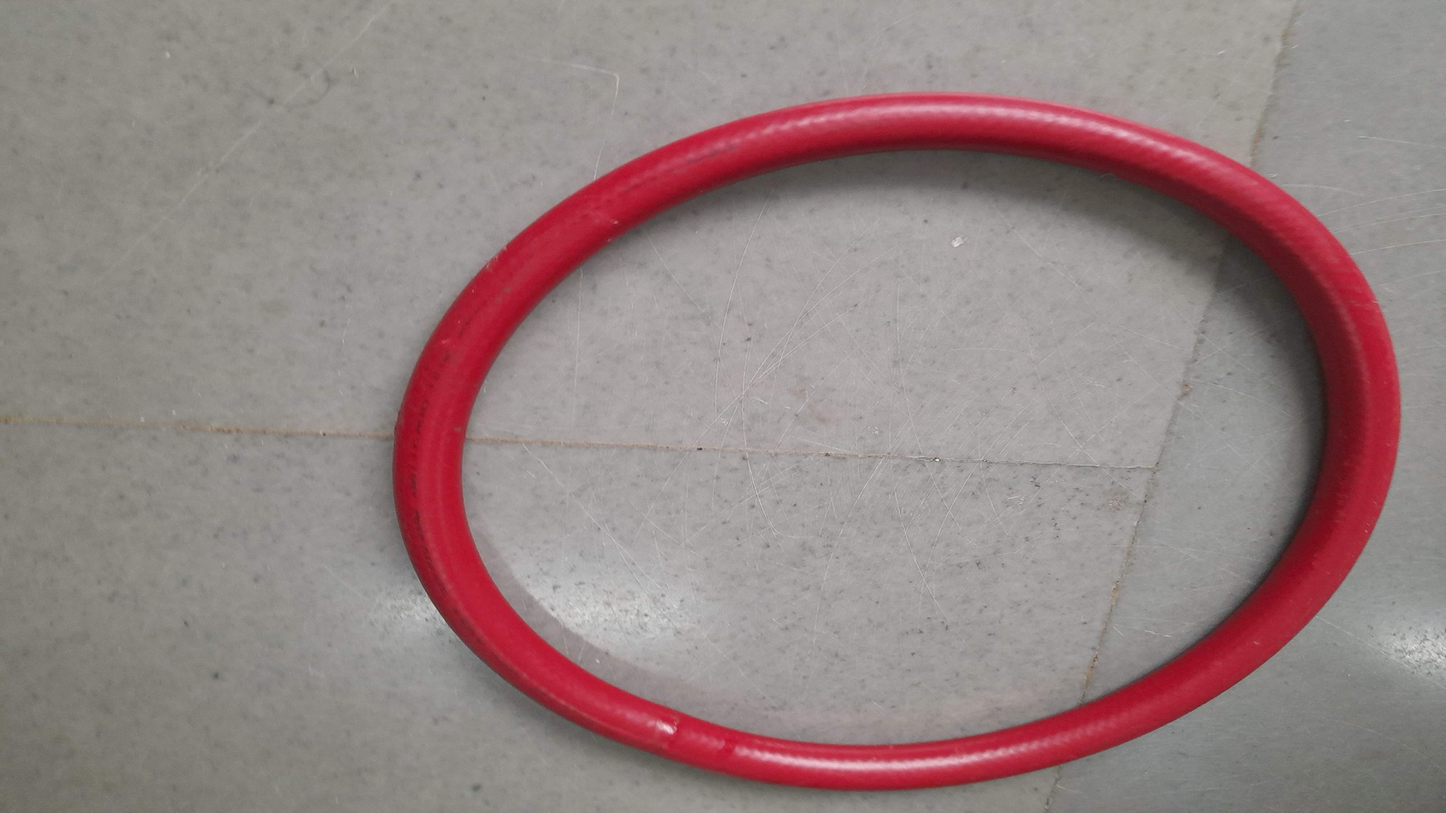Red ring: (395, 95, 1402, 793)
